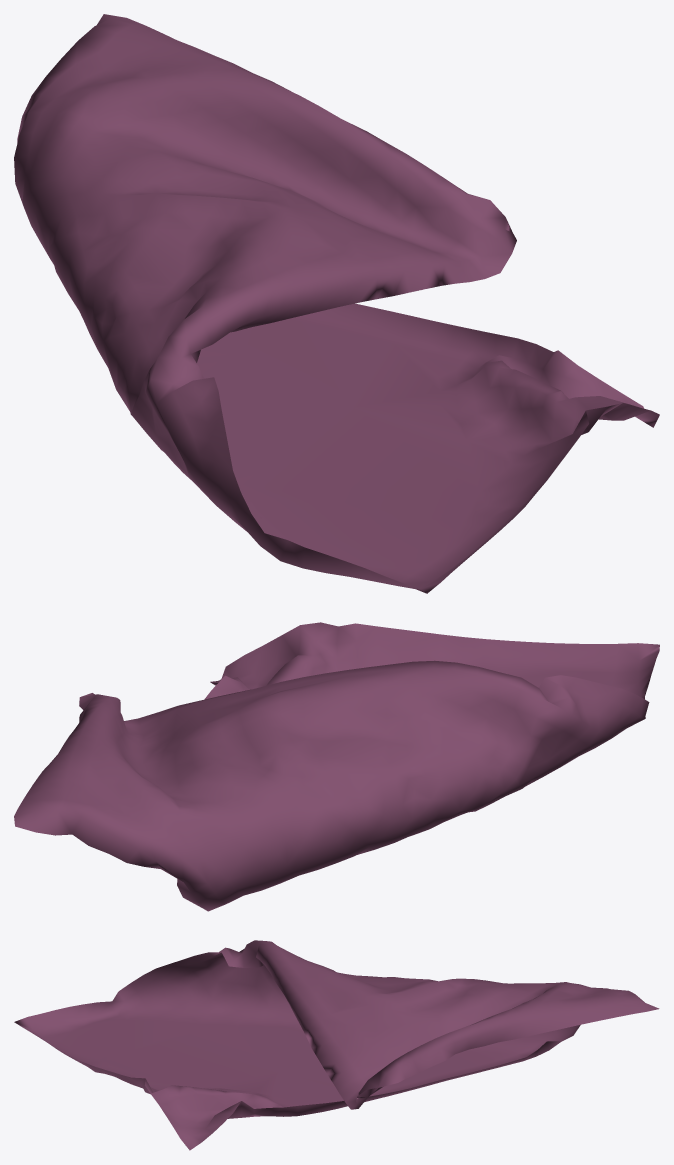
File: BedA_SheetB.FBX
3 renders of one model, top to bottom at view 1: azimuth 30°, elevation 25°; view 2: azimuth 150°, elevation 25°; view 3: azimuth 270°, elevation 25°, orthographic. The views are drawn at different scales.
Parts seen in each view (by area): view 1: SheetB; view 2: SheetB; view 3: SheetB.
Boxes of the visible parts, <box> form: SheetB: <box>14,14,659,593</box>; SheetB: <box>14,622,659,911</box>; SheetB: <box>14,940,659,1150</box>.
Size of the model in its own units: 30.56 by 11.21 by 62.24.
